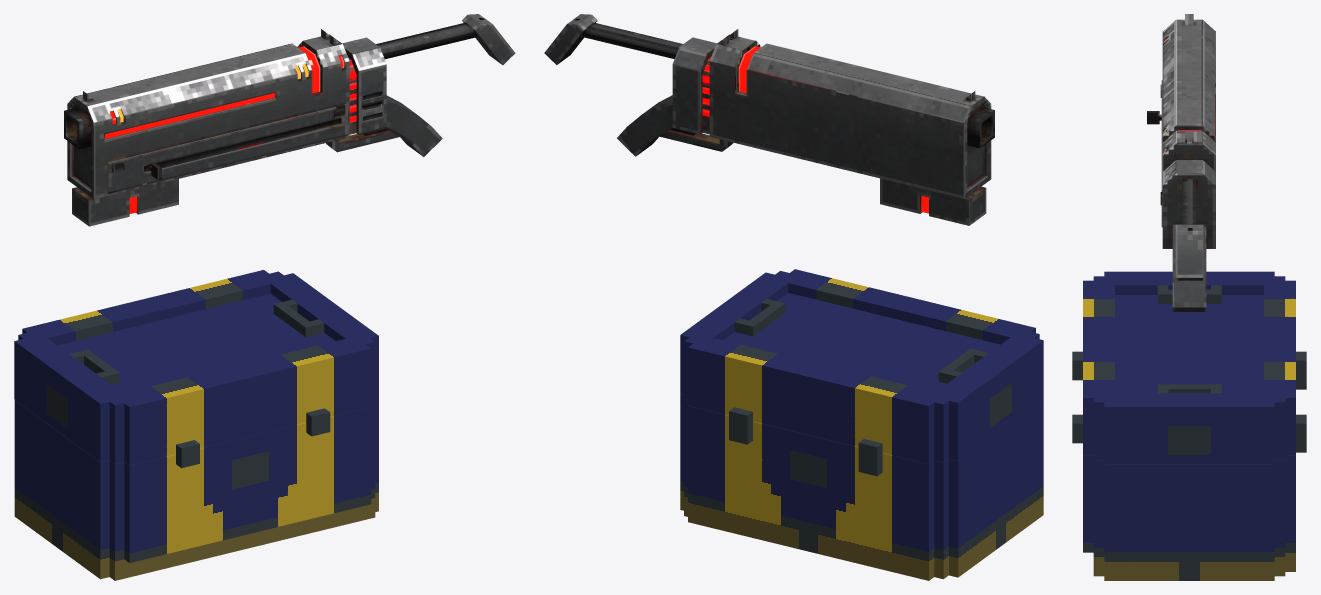
The model's file is LaserGun.gltf.
3 renders of one model, left to right at view 1: azimuth 30°, elevation 25°; view 2: azimuth 150°, elevation 25°; view 3: azimuth 270°, elevation 25°, orthographic.
Visible parts, largest first — view 1: top-Local, box-Local, lasergun, mag; view 2: top-Local, box-Local, lasergun, mag; view 3: top-Local, box-Local, lasergun.
Boxes of the visible parts, x1,y1,x2,y2 form: top-Local: (14,270,378,466); box-Local: (14,394,378,580); lasergun: (64,14,515,199); mag: (72,179,178,226); top-Local: (680,269,1043,476); box-Local: (680,393,1043,580); lasergun: (544,14,994,198); mag: (880,178,986,225); top-Local: (1072,271,1306,464); box-Local: (1072,361,1295,580); lasergun: (1160,14,1215,311).
Size of the model in its own units: 1.94 by 1.84 by 0.8804.
Materials: 4 (4 with a texture image).
